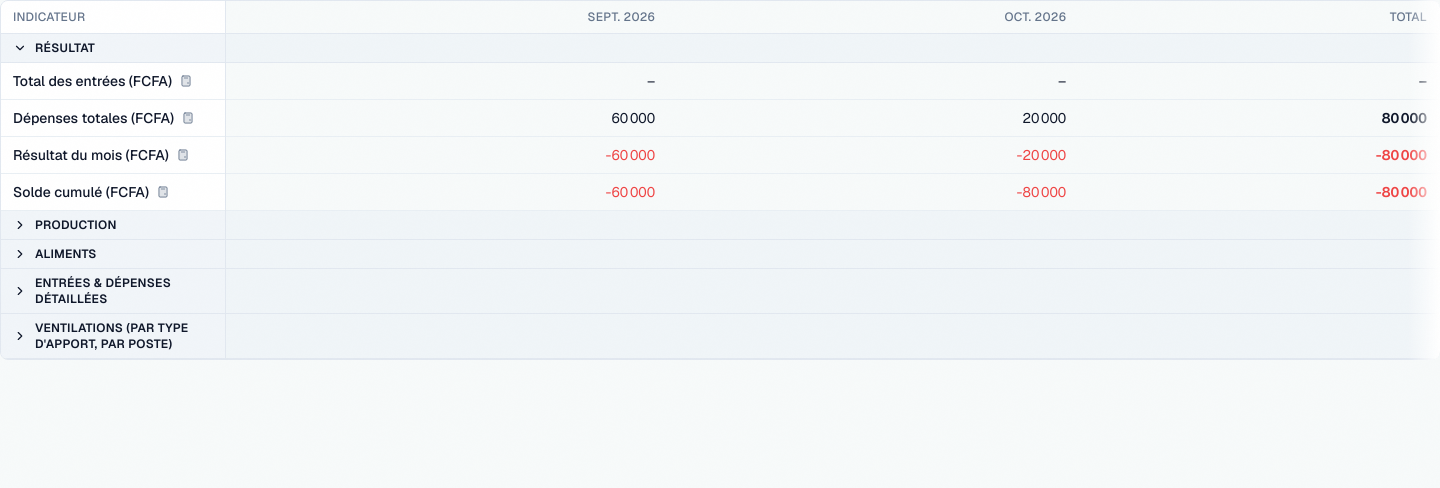
PrevisionsMensuellesTab — sections repliables (story PR2q.3) › ouvrir la section Production révèle Empoissonné/Ventes en tonnes et Alevins à commander en entier
Click the button "Production": coordinates (113, 225) [13,217,212,233]
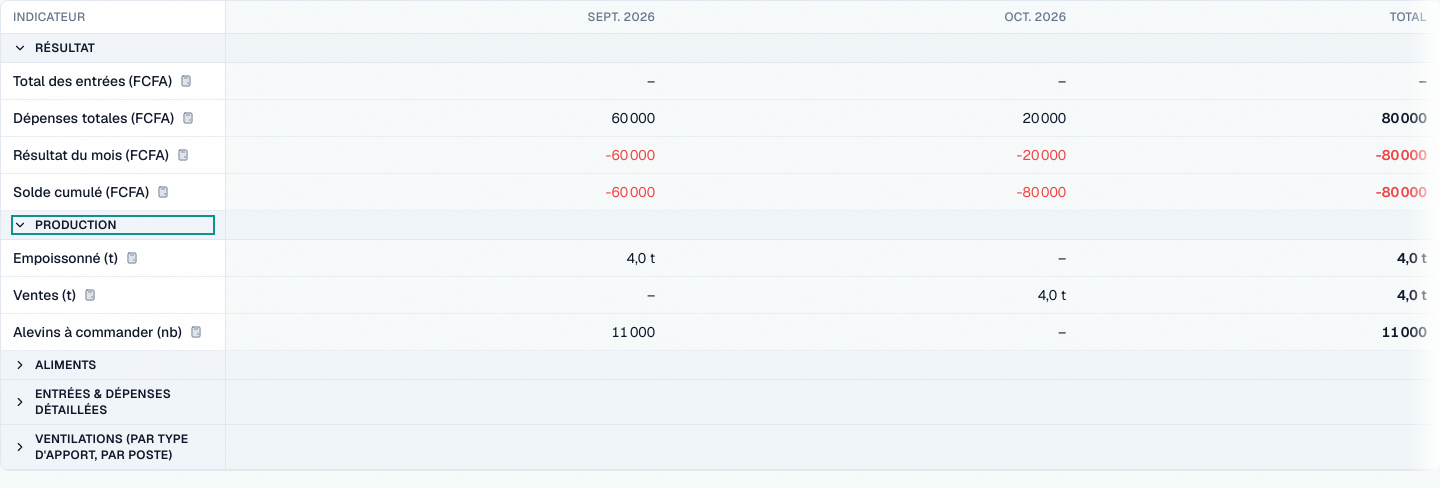
Now the text "Empoissonné (t)" is shown, box [13,249,118,267]
Now the text "4,0 t" is shown 2 times, box [225,240,667,276]; [1078,240,1439,276]
Now the text "Alevins à commander (nb)" is shown, box [13,323,182,341]
